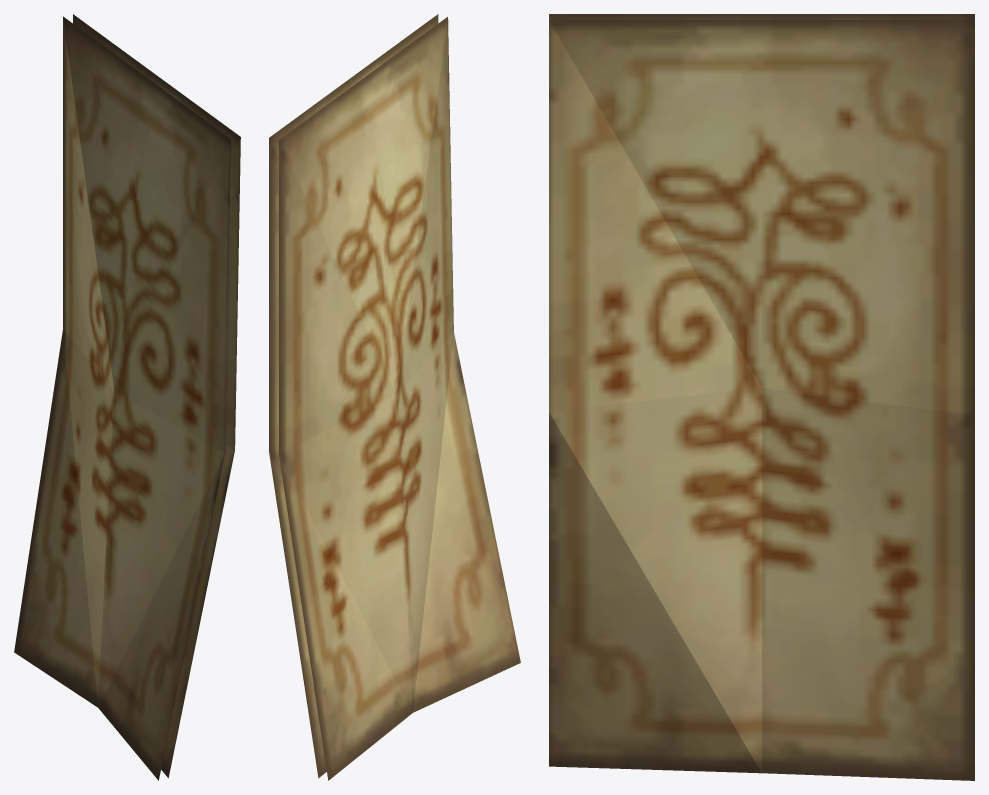
File: Sheep_chineseTalisman_chineseTalisman1.obj
3 renders of one model, left to right at view 1: azimuth 30°, elevation 25°; view 2: azimuth 150°, elevation 25°; view 3: azimuth 270°, elevation 25°, orthographic. The views are drawn at different scales.
Parts seen in each view (by area): view 1: Sheep_chineseTalisman_tri [chineseTalisman1]; view 2: Sheep_chineseTalisman_tri [chineseTalisman1]; view 3: Sheep_chineseTalisman_tri [chineseTalisman1].
Part boxes in pixels (x1=…): Sheep_chineseTalisman_tri [chineseTalisman1]: x1=14, y1=14, x2=240, y2=780; Sheep_chineseTalisman_tri [chineseTalisman1]: x1=269, y1=14, x2=520, y2=780; Sheep_chineseTalisman_tri [chineseTalisman1]: x1=549, y1=14, x2=974, y2=780.
Bounding box in the file's own units: 0.0291 × 0.2116 × 0.1032.
1 material, 1 textured.
